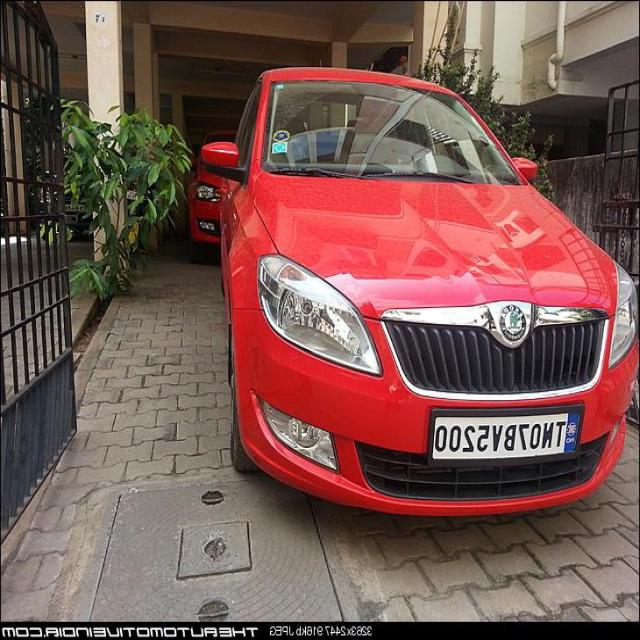license_plate: (423, 399, 587, 473)
